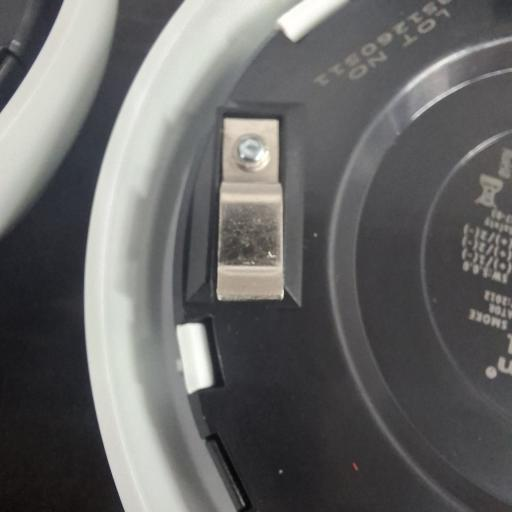yaysiz: (216, 114, 288, 306)
